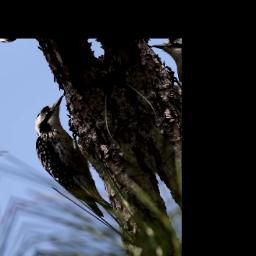Woodpecker: (12, 85, 125, 241)
